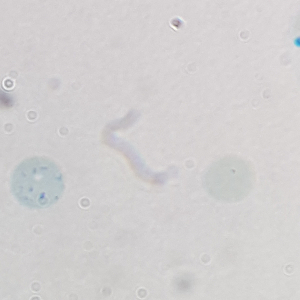aggregate reticulocyte: (9, 155, 66, 210)
punctate reticulocyte: (201, 153, 257, 205)
